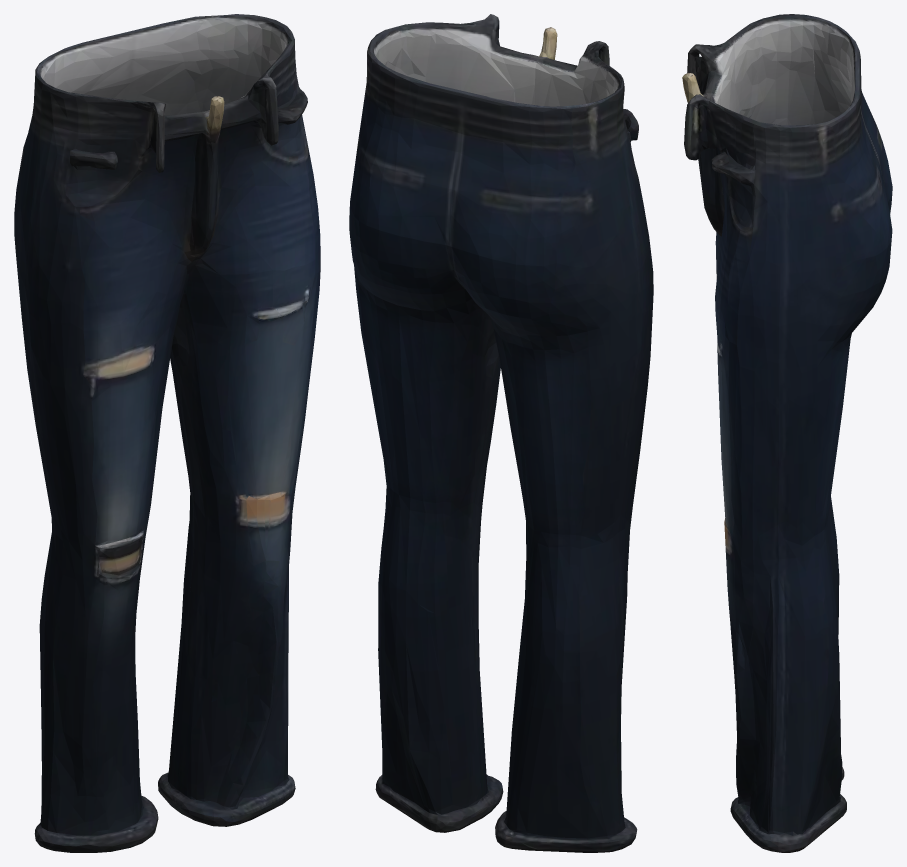
The model's file is black_jewelry_display_tray.glb.
3 renders of one model, left to right at view 1: azimuth 30°, elevation 25°; view 2: azimuth 150°, elevation 25°; view 3: azimuth 270°, elevation 25°, orthographic. The views are drawn at different scales.
Parts seen in each view (by area): view 1: geometry_0; view 2: geometry_0; view 3: geometry_0.
Part boxes in pixels (left/top/right/bottom): geometry_0: left=14, top=14, right=320, bottom=852; geometry_0: left=349, top=14, right=653, bottom=852; geometry_0: left=682, top=14, right=892, bottom=852.
Size of the model in its own units: 0.3851 by 0.9998 by 0.2619.
1 material, 1 textured.
